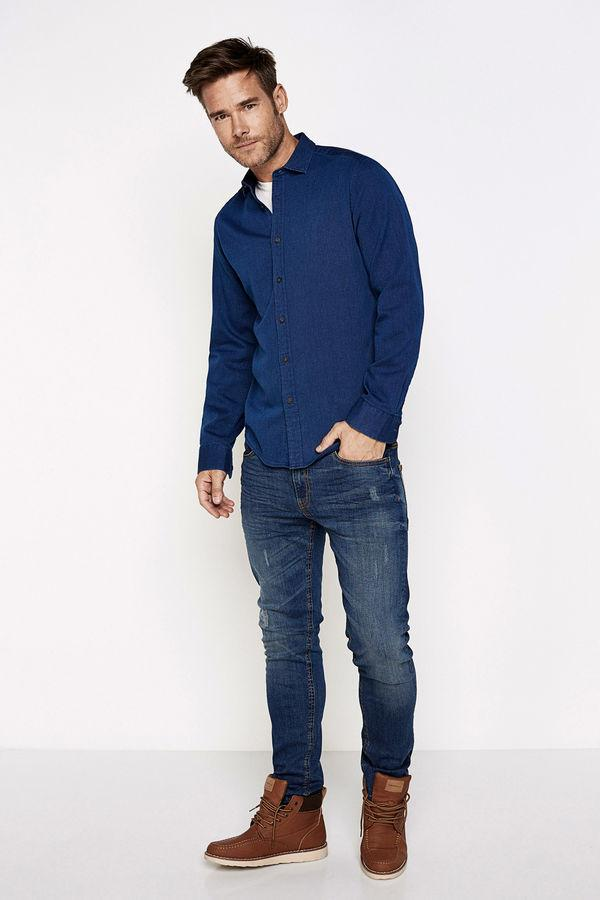teeshirt: (189, 134, 426, 467)
